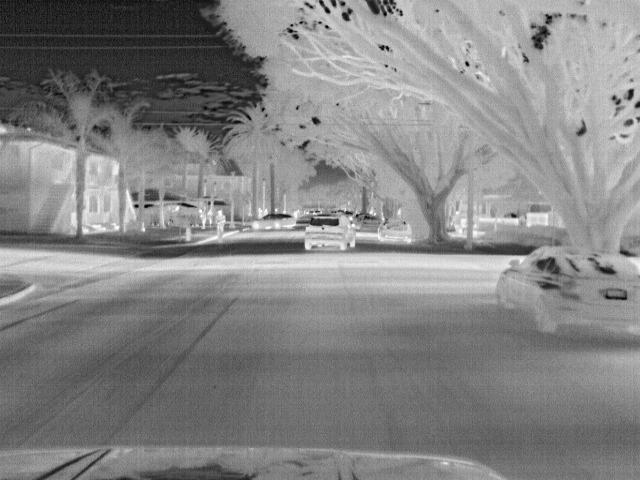car: (495, 242, 639, 339), (304, 211, 355, 253), (378, 218, 414, 248), (249, 212, 299, 230), (351, 211, 385, 237)
person: (213, 208, 228, 241), (449, 208, 465, 235)
